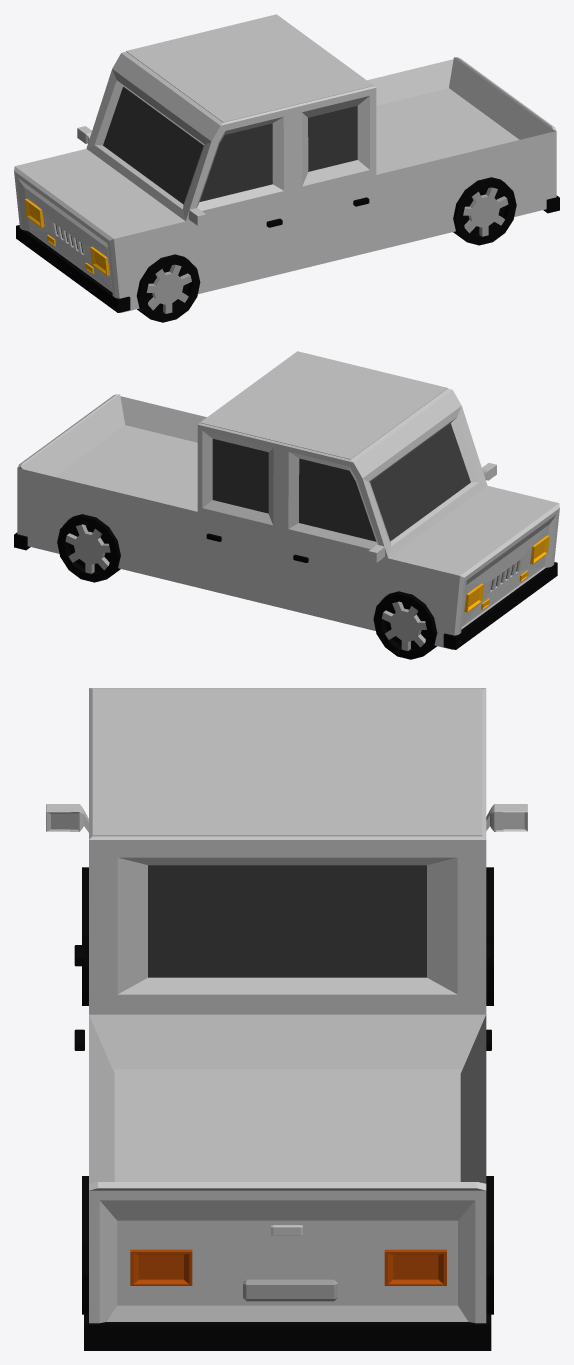
The model's file is br_wheel_9.glb.
The picture shows the model from 3 angles, top to bottom: view 1: azimuth 30°, elevation 25°; view 2: azimuth 150°, elevation 25°; view 3: azimuth 270°, elevation 25°; orthographic projection. The views are drawn at different scales.
Visible parts, largest first — view 1: BR WHEEL.021_BODY.028_0; view 2: BR WHEEL.021_BODY.028_0; view 3: BR WHEEL.021_BODY.028_0.
Part boxes in pixels (<box>): BR WHEEL.021_BODY.028_0: <box>14,14,559,322</box>; BR WHEEL.021_BODY.028_0: <box>14,351,559,659</box>; BR WHEEL.021_BODY.028_0: <box>46,688,527,1350</box>.
Size of the model in its own units: 0.6801 by 0.2659 by 0.3174.
Materials: 1 (1 with a texture image).
